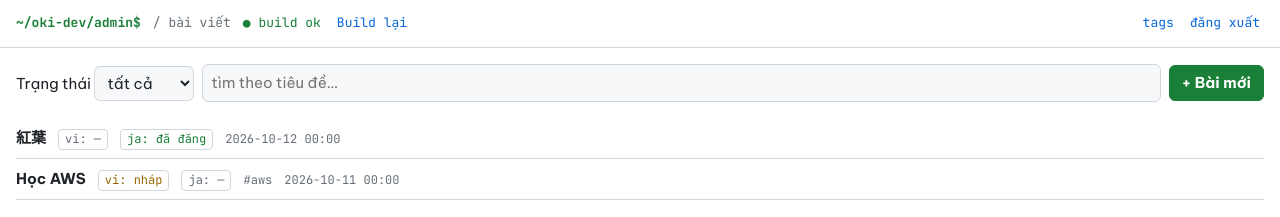
PostListPage › filters by status and title
This screenshot has width=1280, height=217.
expect the link "Học AWS" is shown: met, box [16,167,86,191]
Select "đã đăng" in the dropdown labelled "Trạng thái" at (144,83), box [94,66,194,100]
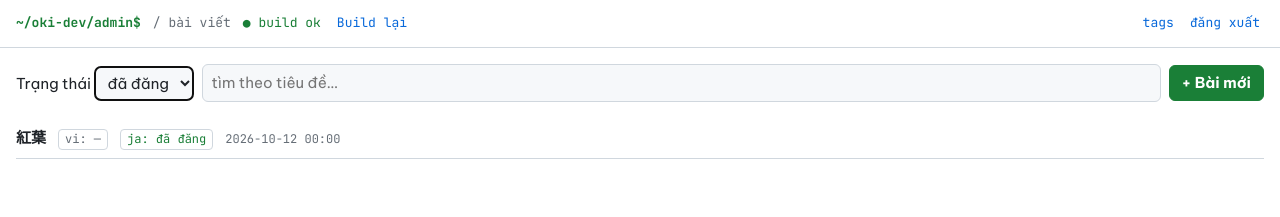
expect the link "紅葉" is shown: met, box [16,126,46,150]
expect the link "Học AWS" is gone: met
Select "tất cả" in the dropdown labelled "Trạng thái" at (144,83), box [94,66,194,100]
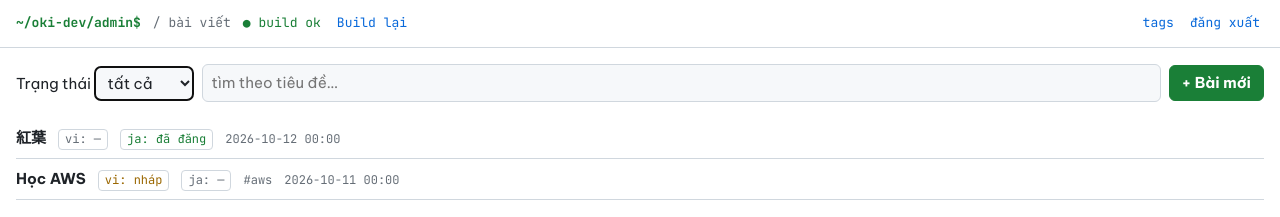
Type "hoc" into the search field labelled "tìm theo tiêu đề".
click(682, 83); type("hoc")  # box [202,64,1160,102]
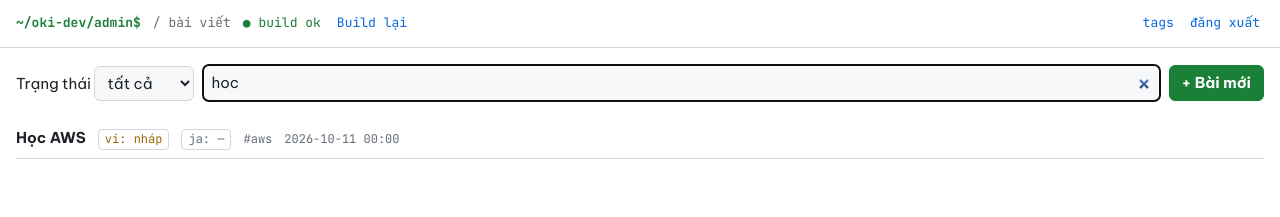
expect the link "紅葉" is gone: met
